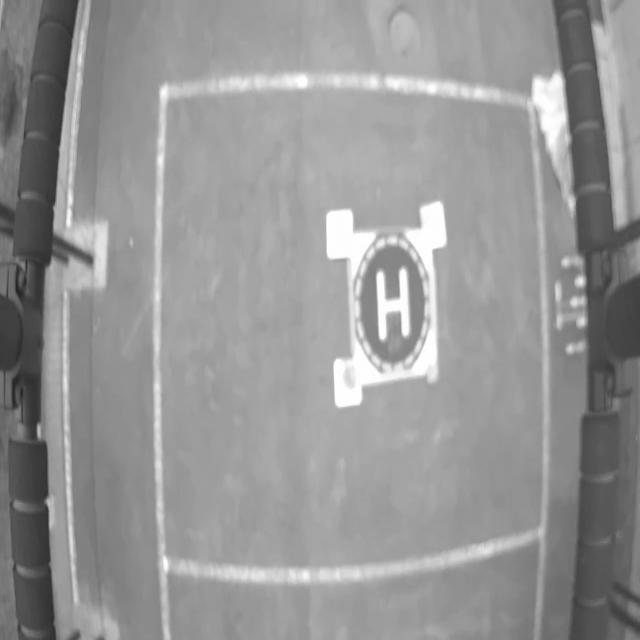Helipad: (376, 269, 411, 343)
